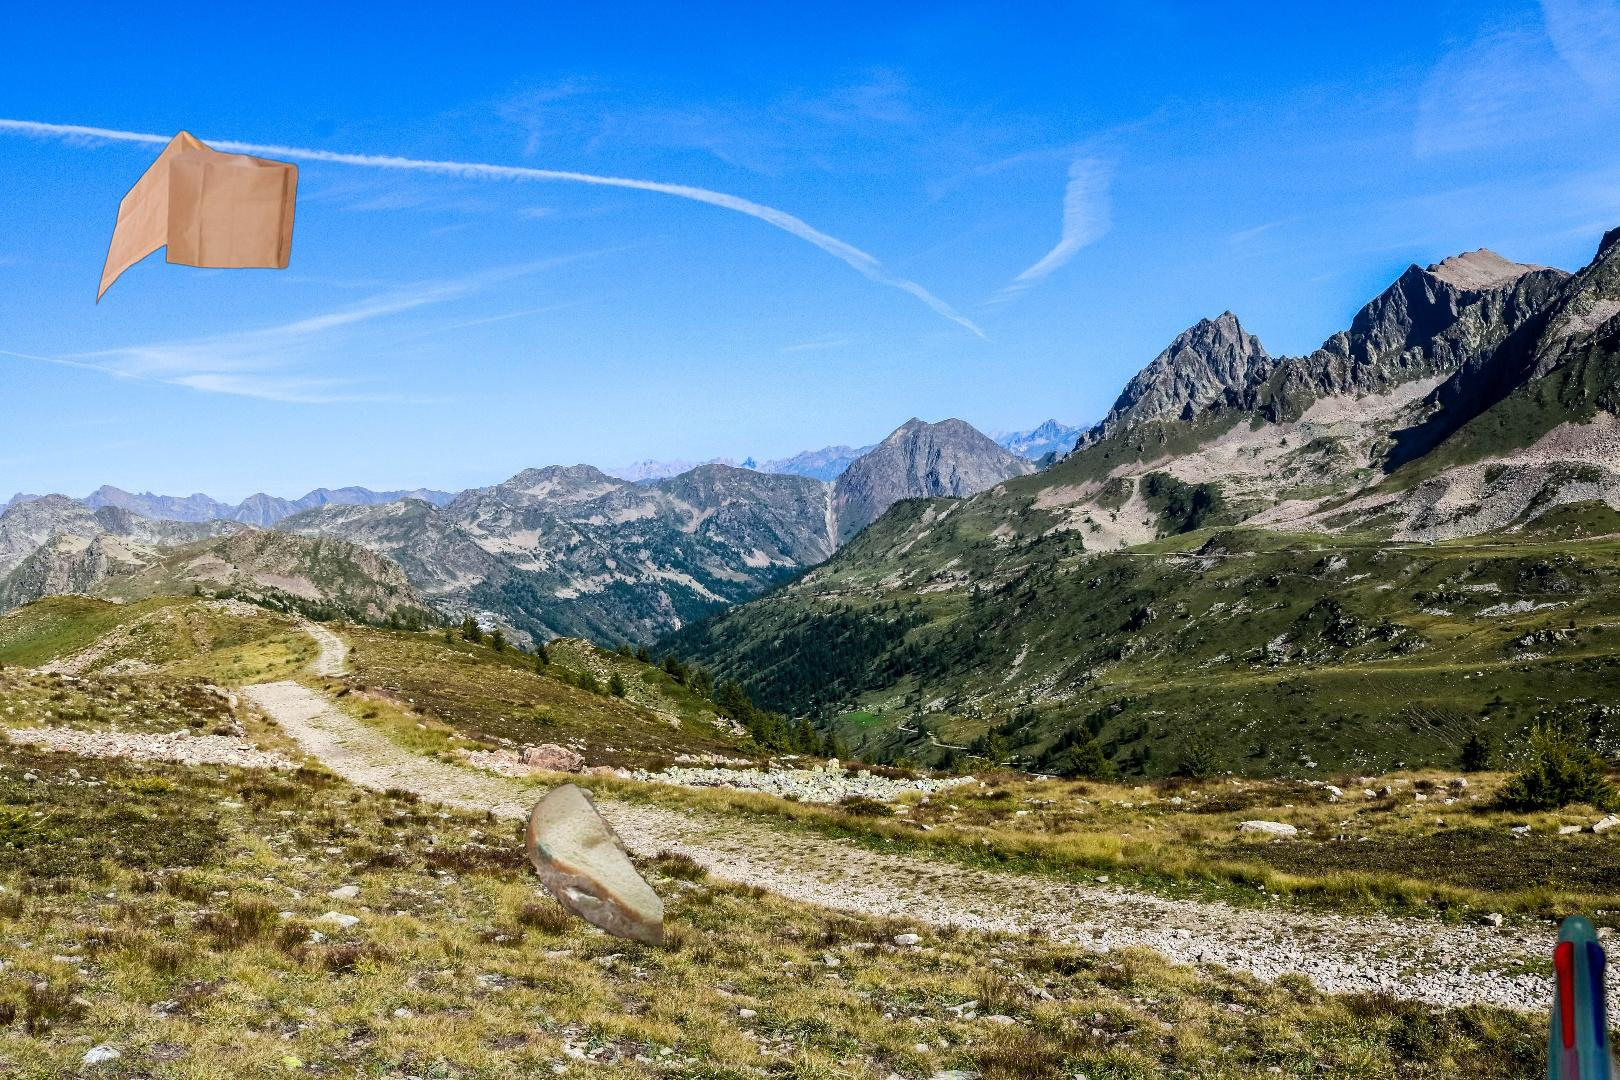biological: (524, 780, 663, 957)
paper-bag: (94, 128, 303, 335)
penholder: (1536, 890, 1620, 1080)
trash: (1103, 1078, 1302, 1080)
